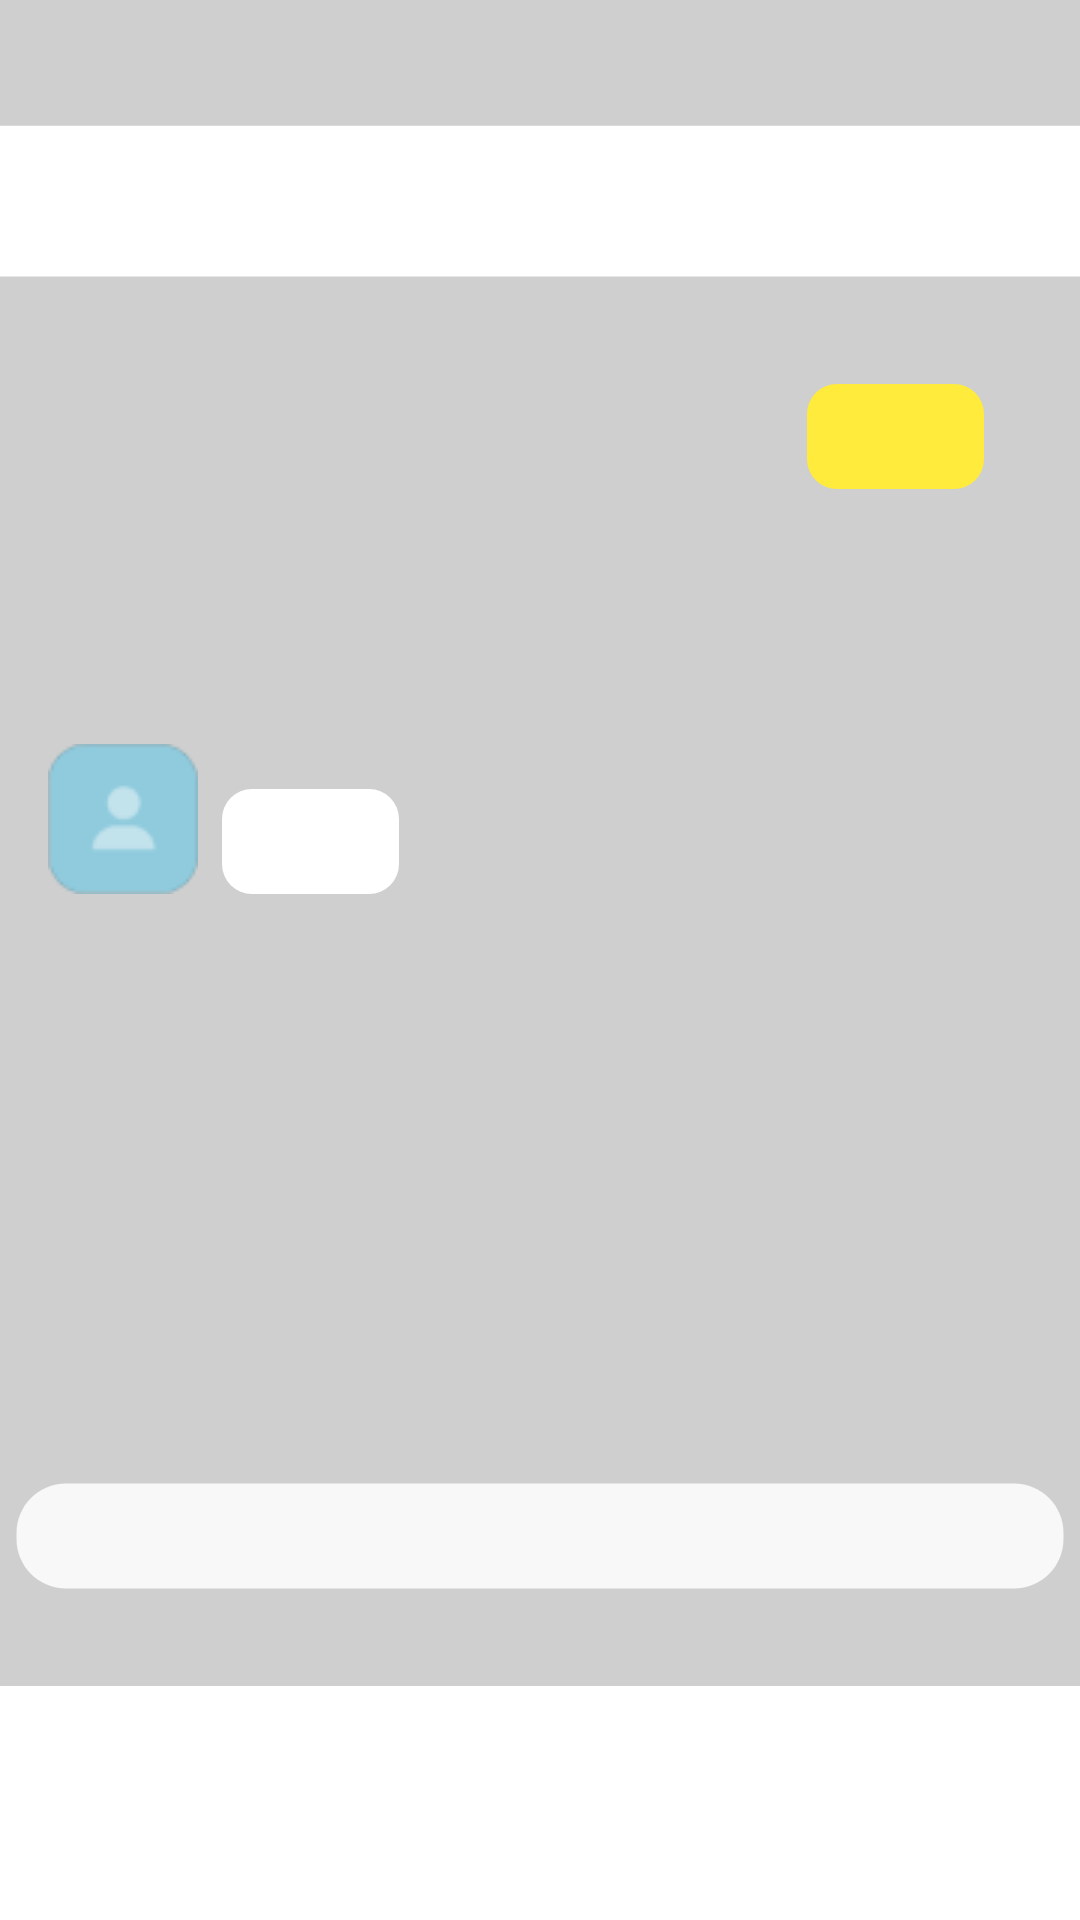

Icons on this 1080x1920 Android screen, each with its box as (x1, y1, x2, y2):
profile: (48, 744, 198, 894)
